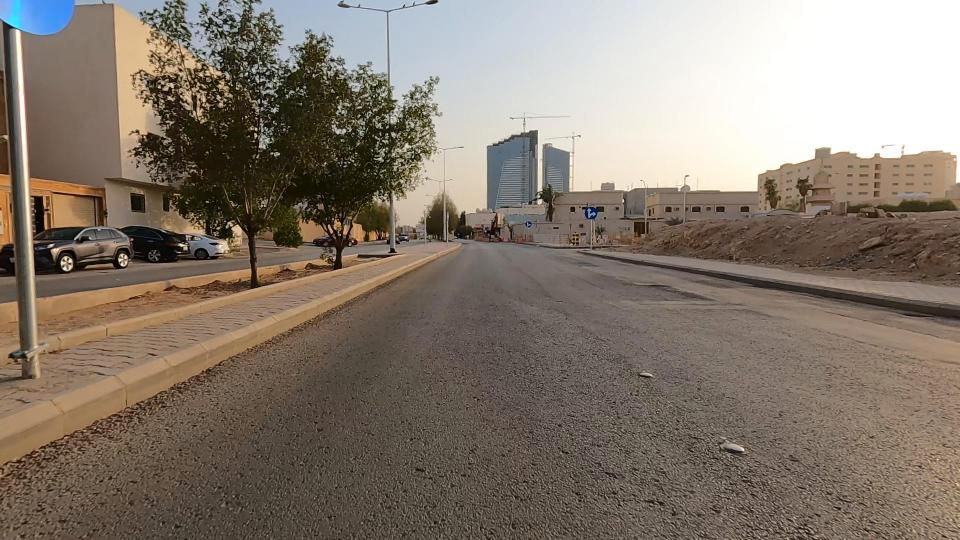POTHOLES: (546, 243, 772, 341), (519, 226, 648, 295)
SAND_ON_ROAD: (703, 180, 960, 314), (617, 187, 782, 292)
